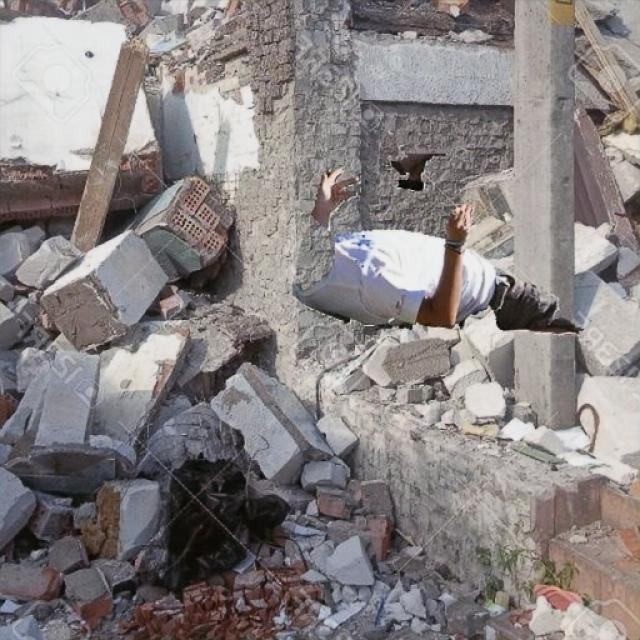Person in Rubble: (292, 154, 582, 335)
